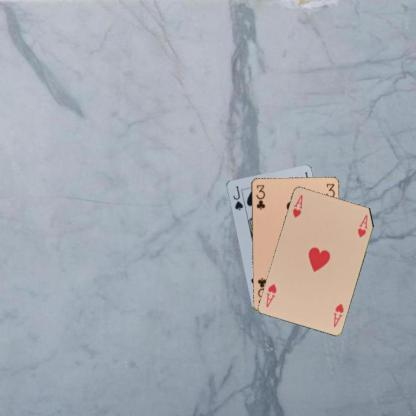3c: (254, 182, 266, 211)
Ah: (330, 301, 345, 328), (290, 192, 304, 219)
Js: (230, 183, 244, 212)
